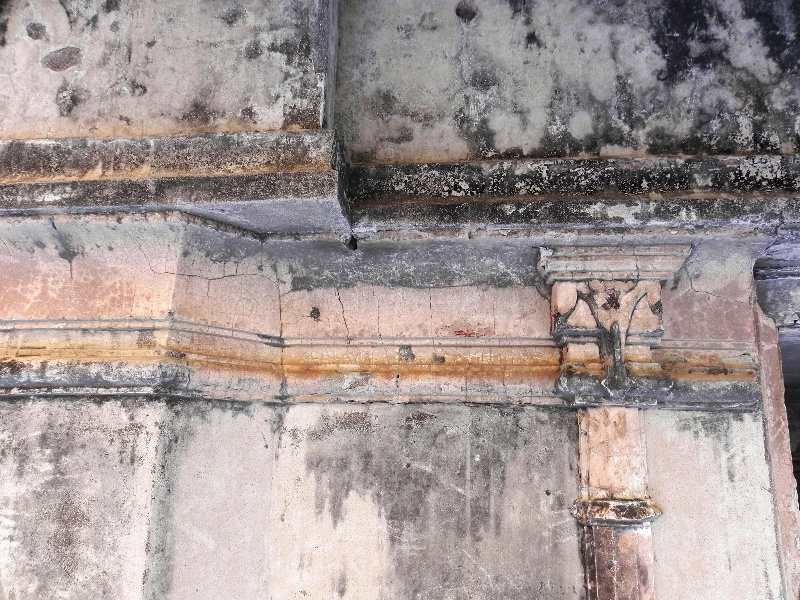Spalling: (405, 347, 417, 363)
